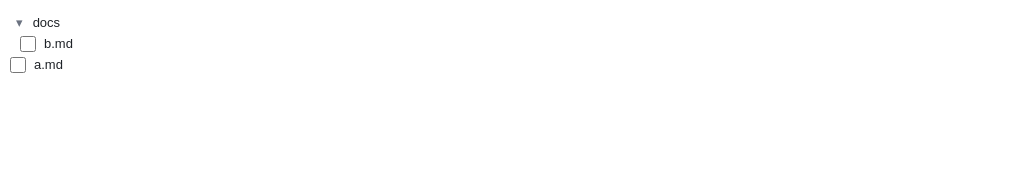
Test: FileTree › ディレクトリのトグルで子の表示を切り替える
Expected: the button "b.md" is shown, [38, 33, 998, 54]
What coordinates should you click on to do the following:
click the button "▾ docs"
I would click on:
 (19, 22)
Its box is [10, 12, 1024, 33].
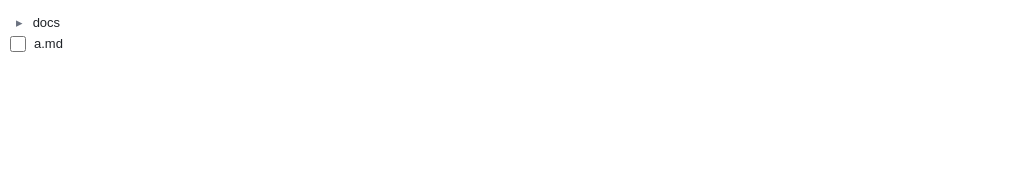
Expected: the button "b.md" is gone
